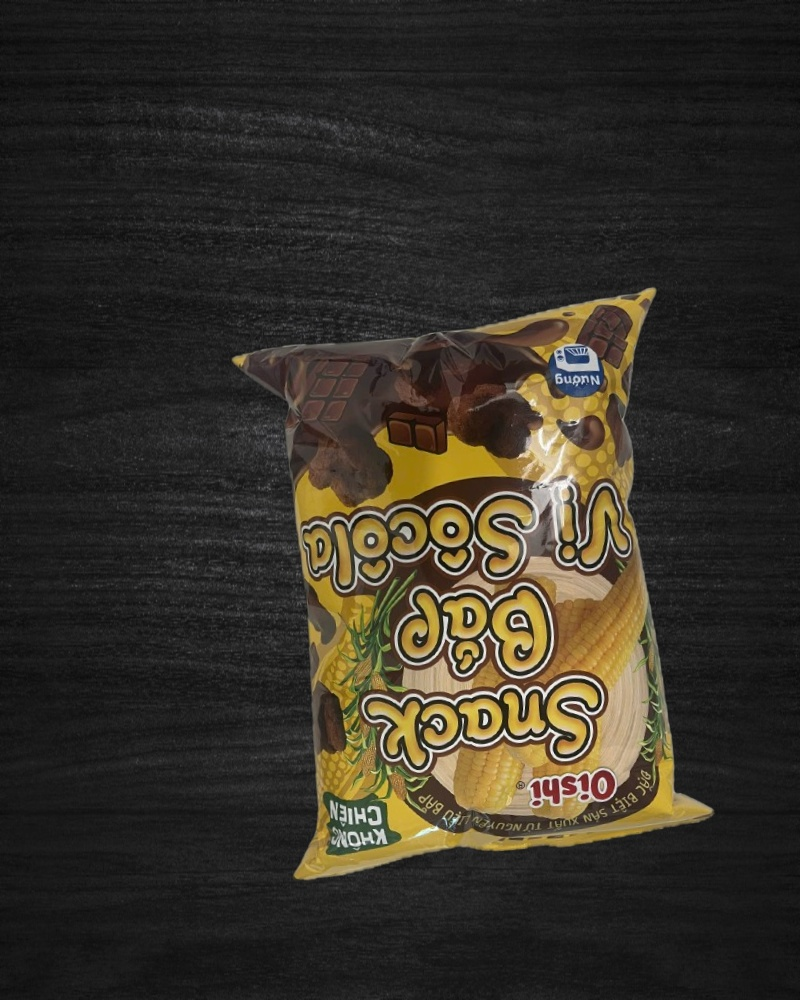Snack socola: (231, 289, 718, 881)
